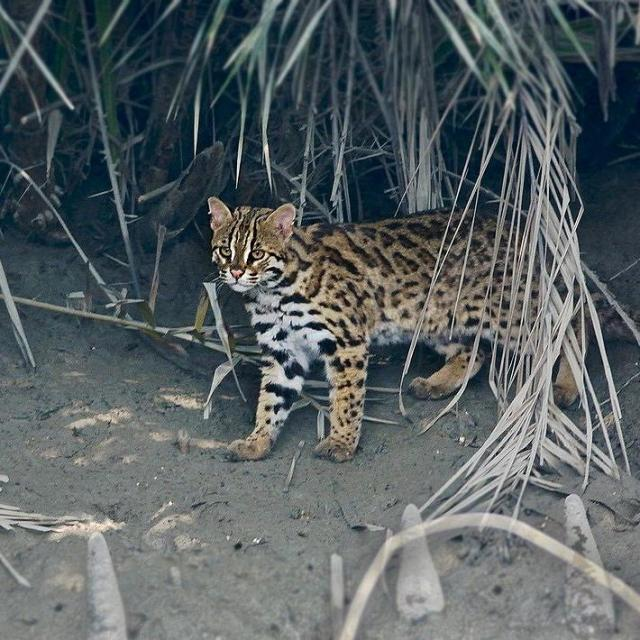leopard: (198, 163, 595, 522)
